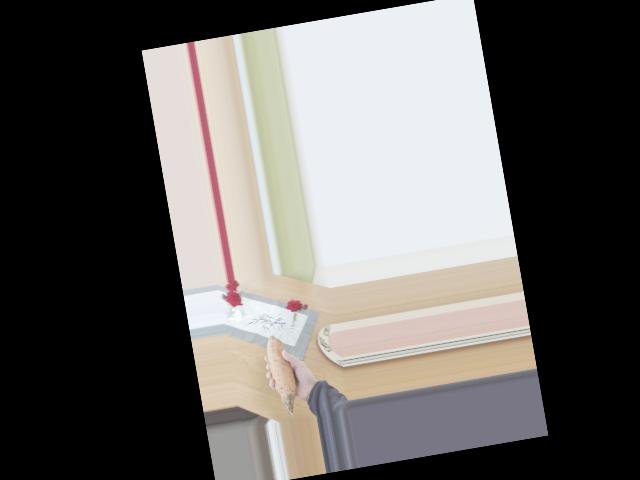sweet_potato: (260, 329, 306, 410)
